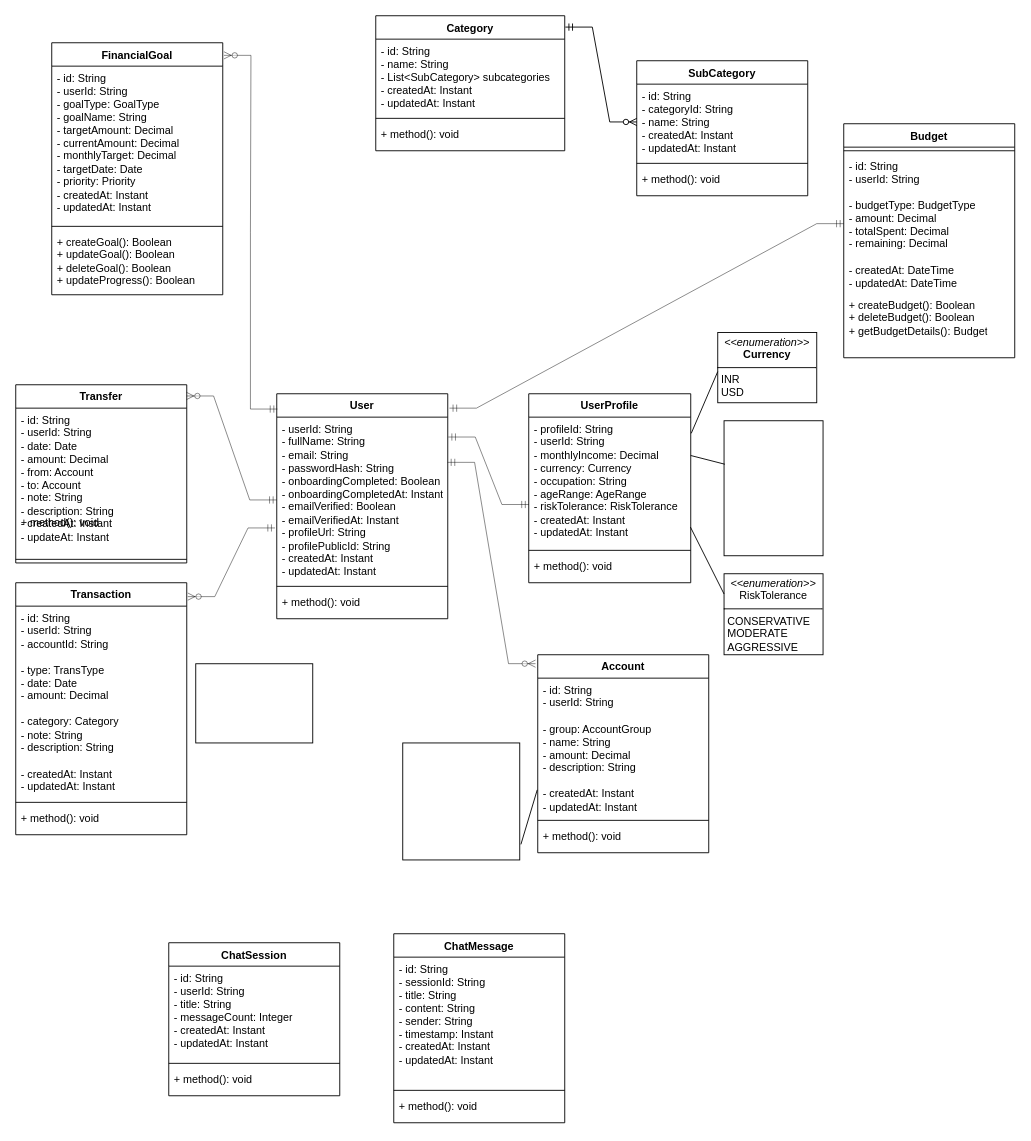
Image size: 1031x1141. Some labels were removed from this diagram. Each missing label, with the centre of its shape:
"<<enum>> AccountGroup CASH ACCOUNTS CARD DEBIT_CARD CUSTOM" belongs at (x=461, y=801).
"<<enum>> TransType INCOME EXPENSE" belongs at (x=254, y=703).
"<<enumeration>> AgeRange UNDER_18 18_24 25_34 35_44 45_54 55_64 65_PLUS" belongs at (x=773, y=488).
